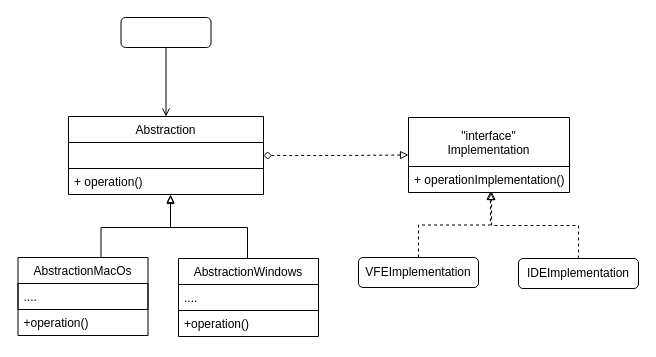
Image size: 656x357. Some labels were removed from this diagram. The centre of each missing label's shape, as x and y in pixels:
"- implementation: Implementation" belongs at (x=166, y=155).
"Client" belongs at (x=165, y=32).
